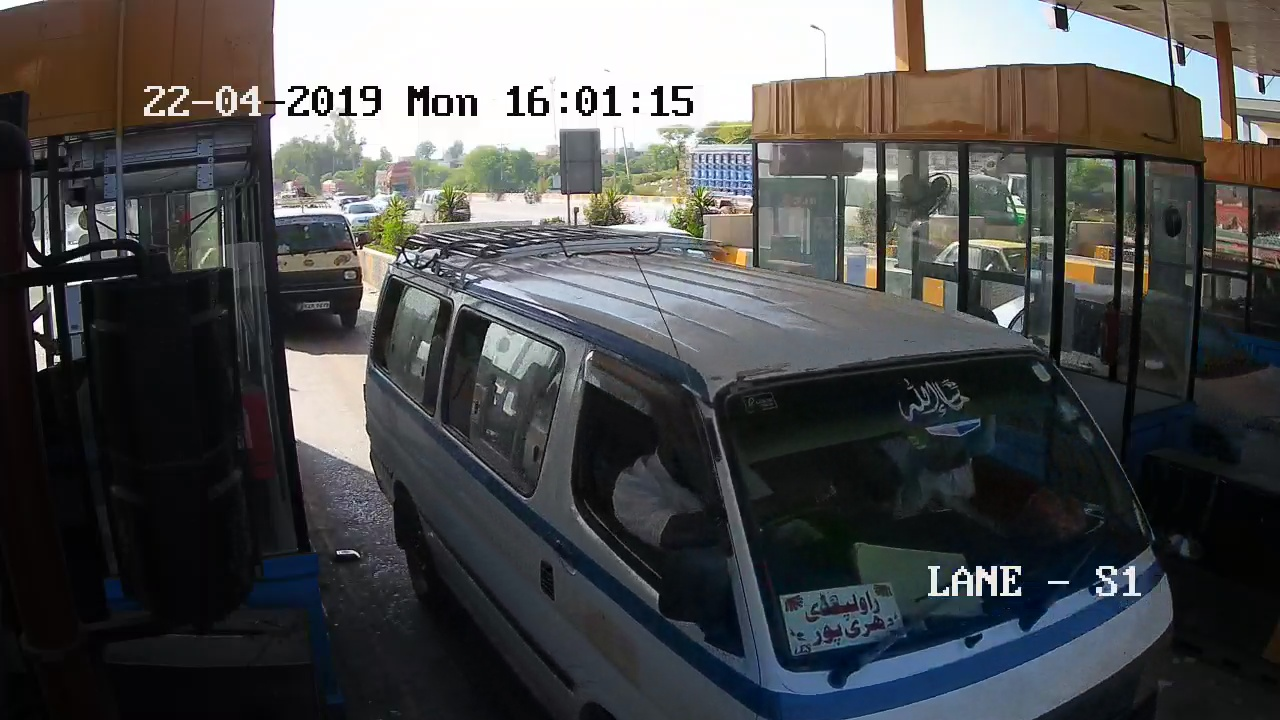car: (366, 207, 1201, 720)
